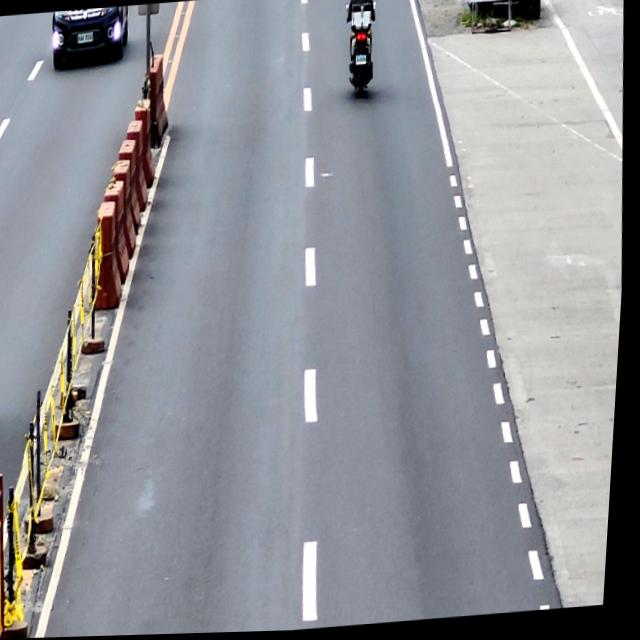License-Plate: (356, 58, 368, 68)
Motorcycle: (342, 0, 384, 101)
